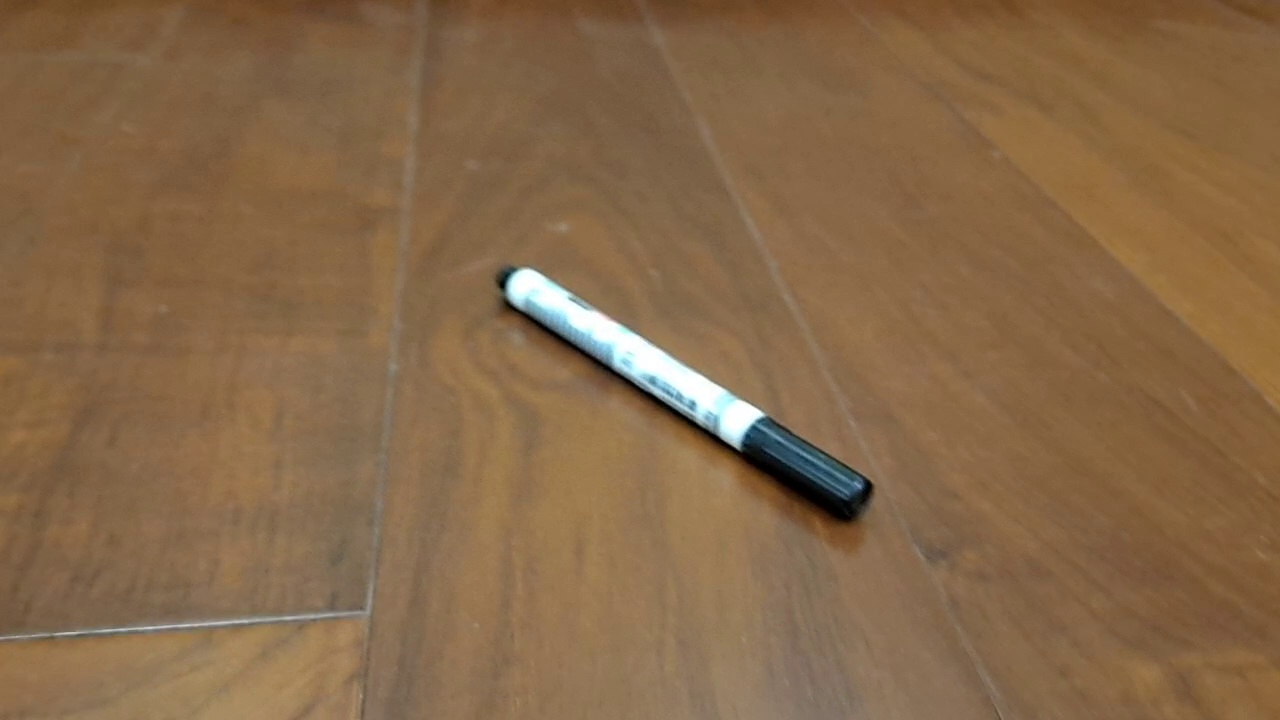pen: (492, 261, 875, 526)
